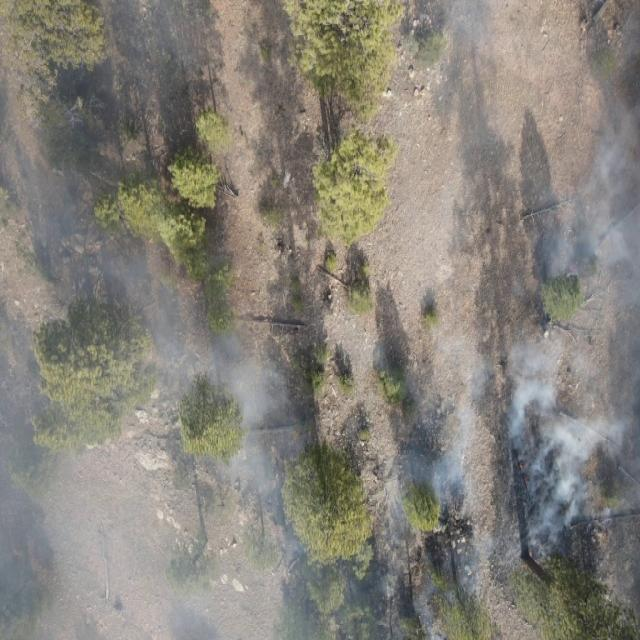fire: (518, 462, 530, 488), (568, 256, 582, 275)
smoke: (0, 307, 640, 640), (0, 0, 232, 184), (0, 184, 191, 306), (566, 99, 640, 306), (433, 0, 504, 91), (508, 222, 566, 306)
